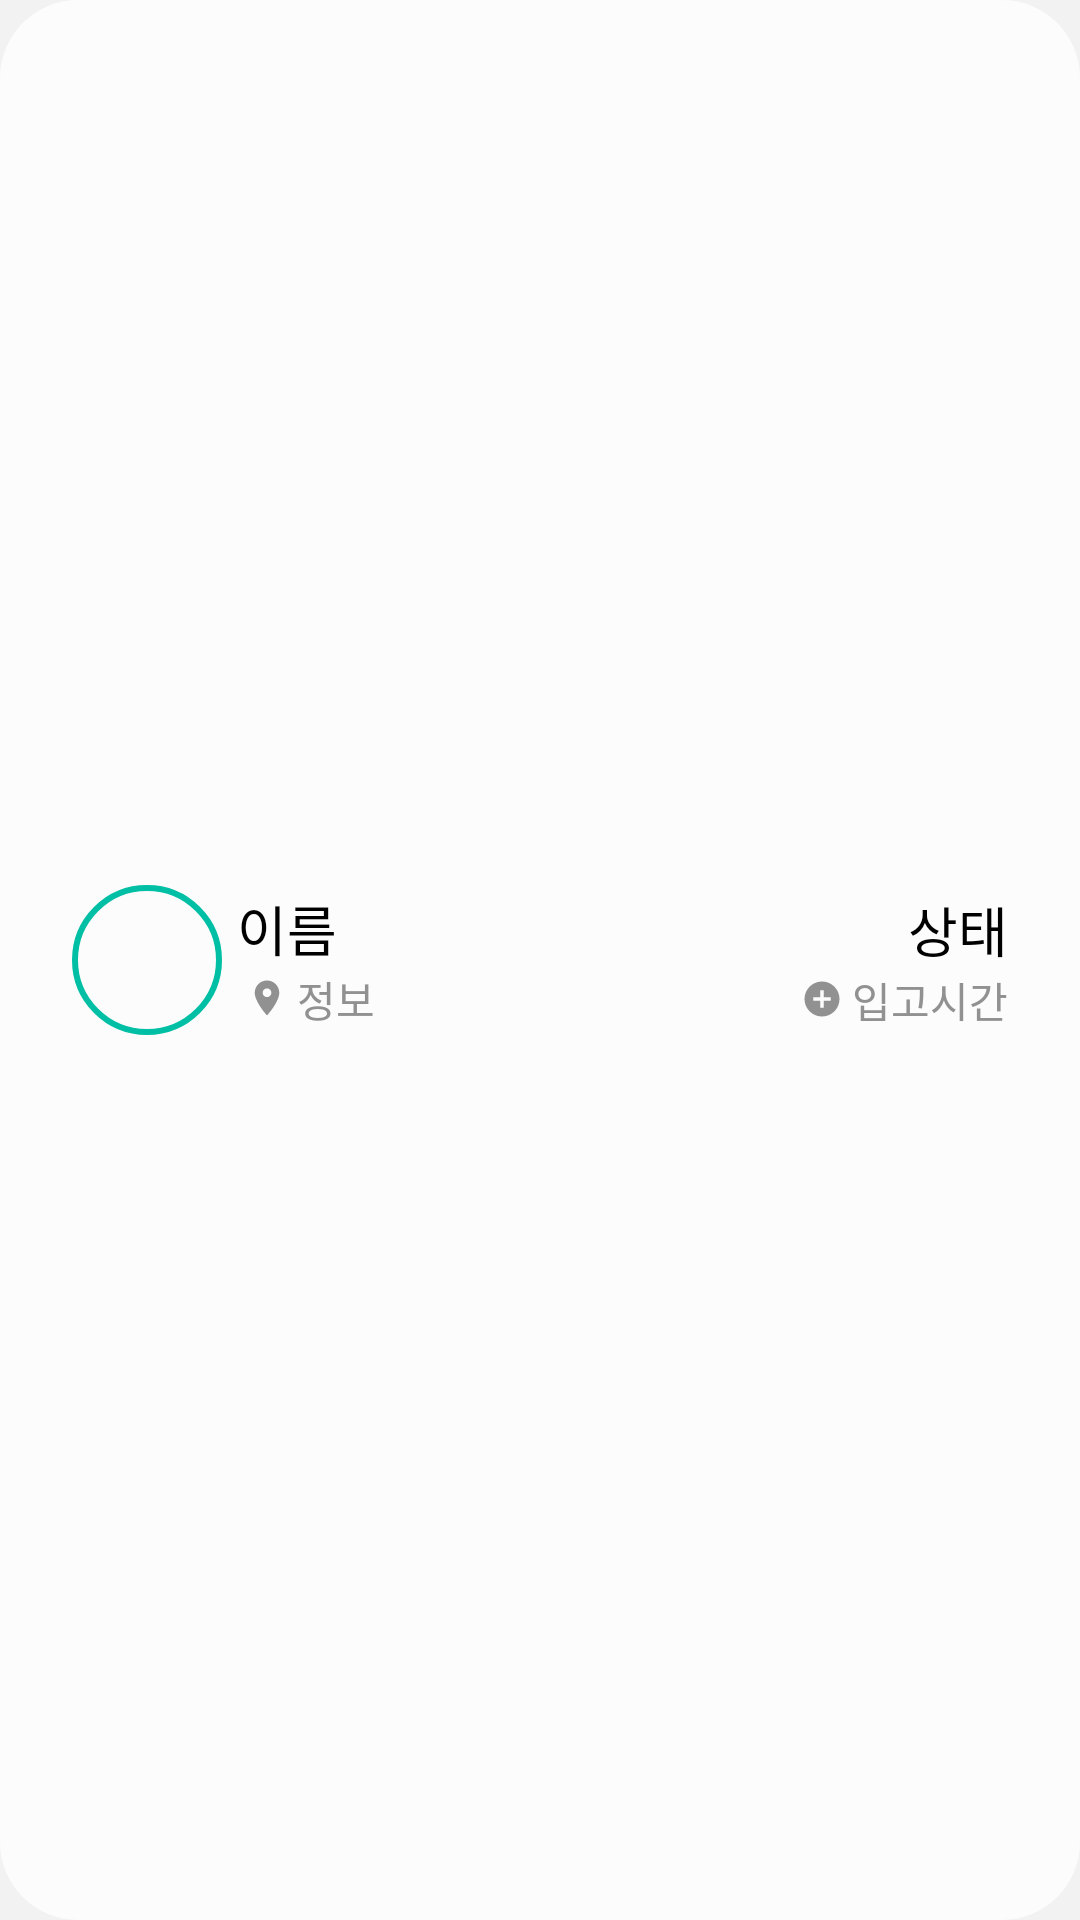

Screen size 1080 x 1920. Icon name, then its center in pixels as (x=x, y=y):
add circle: (x=822, y=999)
location: (x=267, y=997)
